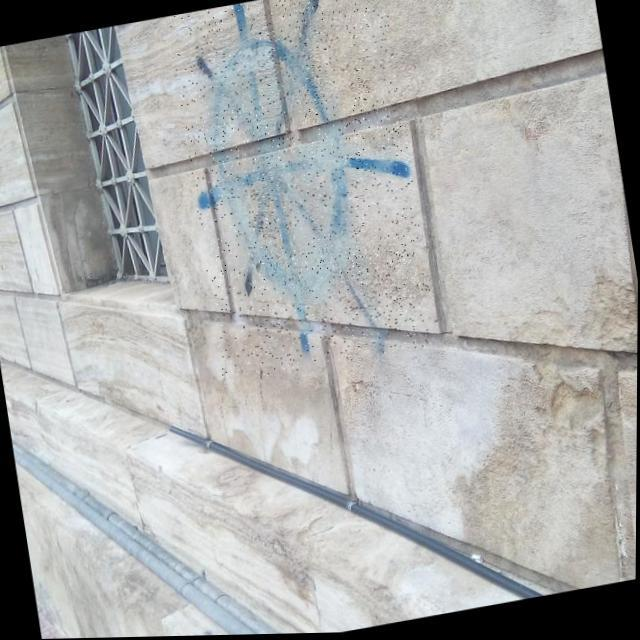-: (166, 0, 441, 385)
